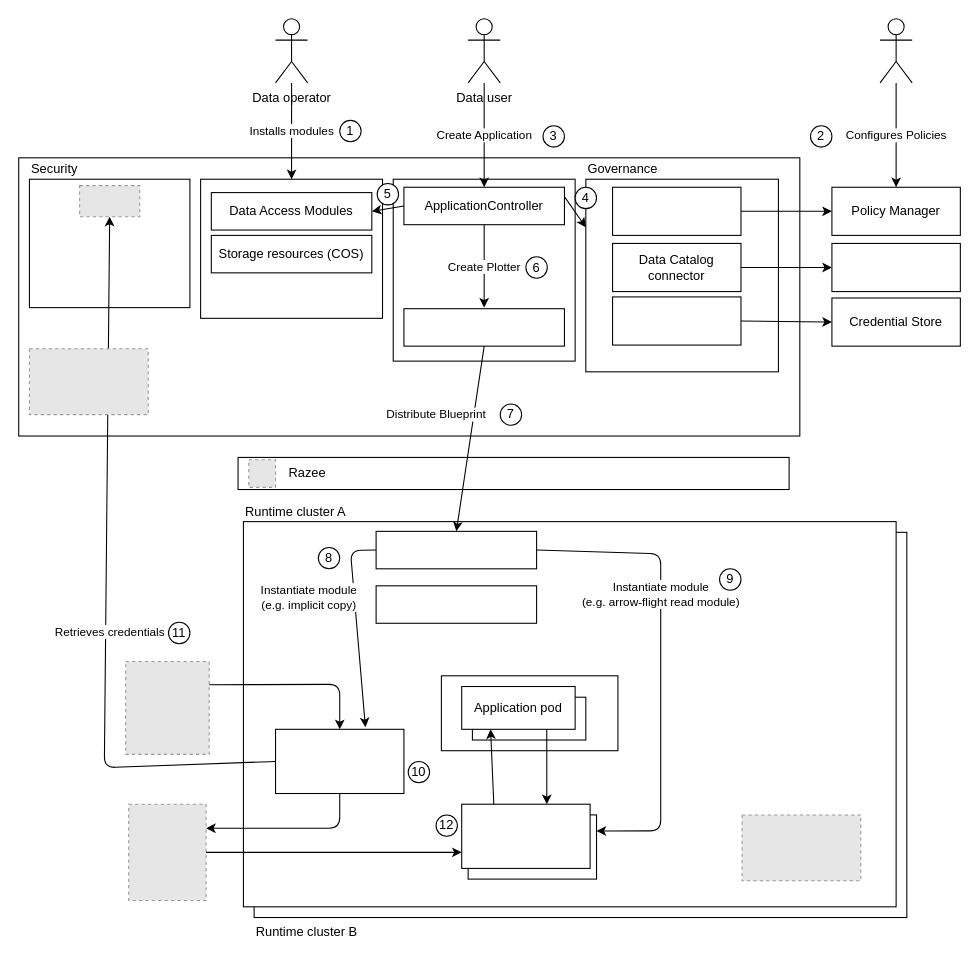
This 979x959 diagram has some shape labels left out. Grey dashed boxes stand in for pictures. Each missing label, with the box of its shape:
BlueprintController: (375, 530, 537, 569)
Control Plane: (18, 157, 800, 436)
Core: (392, 178, 575, 361)
Data Access Modules for read/write: (461, 803, 590, 868)
Data Catalog: (831, 242, 960, 292)
Data Credential connector: (612, 296, 741, 345)
Data steward: (879, 18, 912, 83)
Implicit Copy Job: (274, 728, 404, 794)
Isolation: (440, 675, 618, 751)
MotionControllers: (375, 585, 537, 623)
PlotterController: (403, 308, 564, 346)
Policy Manager connector: (612, 186, 741, 235)
Registry: (200, 178, 383, 318)
